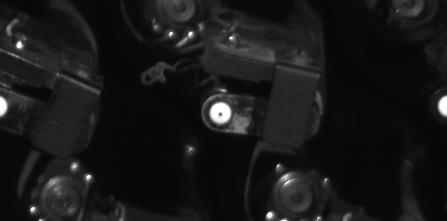fiber: (206, 97, 240, 128)
